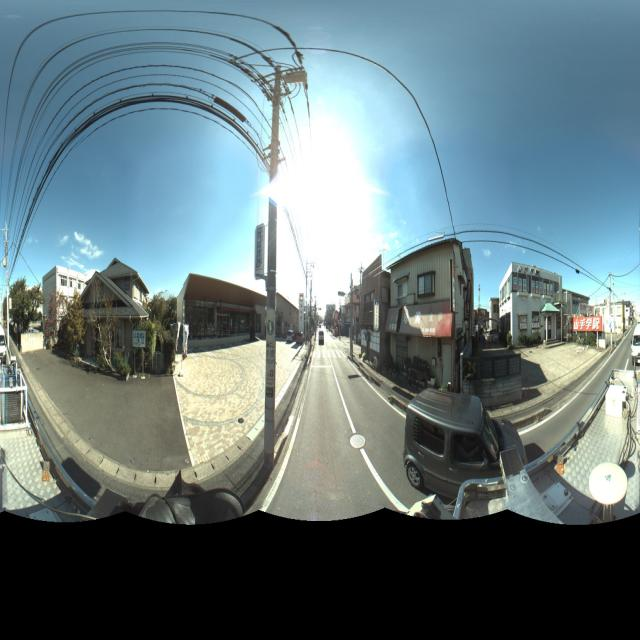b_1: (394, 238, 467, 385), (177, 264, 266, 344), (498, 254, 562, 340), (359, 251, 398, 372), (336, 269, 366, 351), (598, 290, 632, 335)
